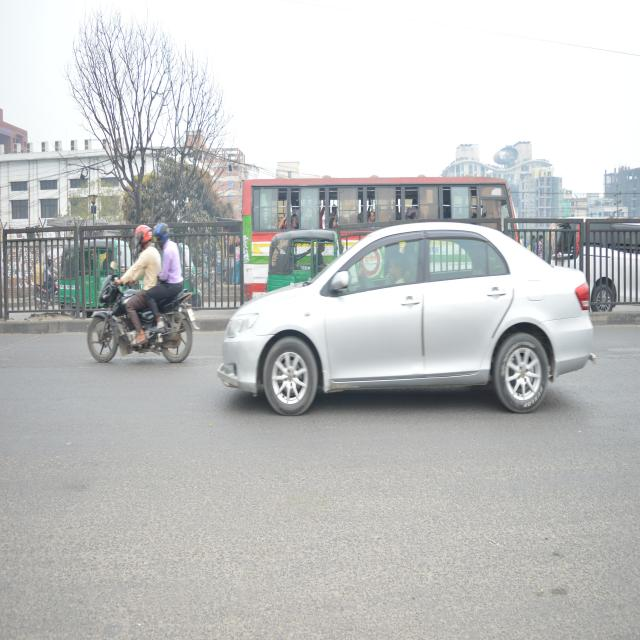bus: (240, 176, 523, 295)
car: (220, 224, 594, 414)
microbus: (557, 217, 640, 310)
motorbike: (87, 270, 195, 366)
